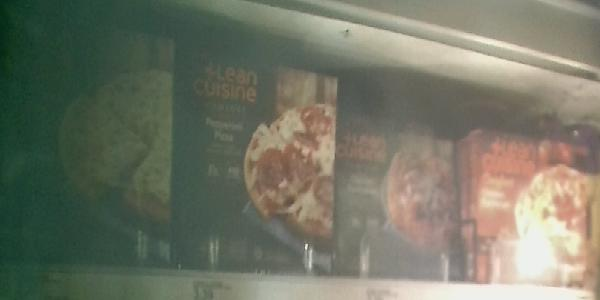pizza1: (2, 7, 173, 271), (174, 61, 336, 272), (334, 121, 466, 288), (473, 130, 592, 286)
